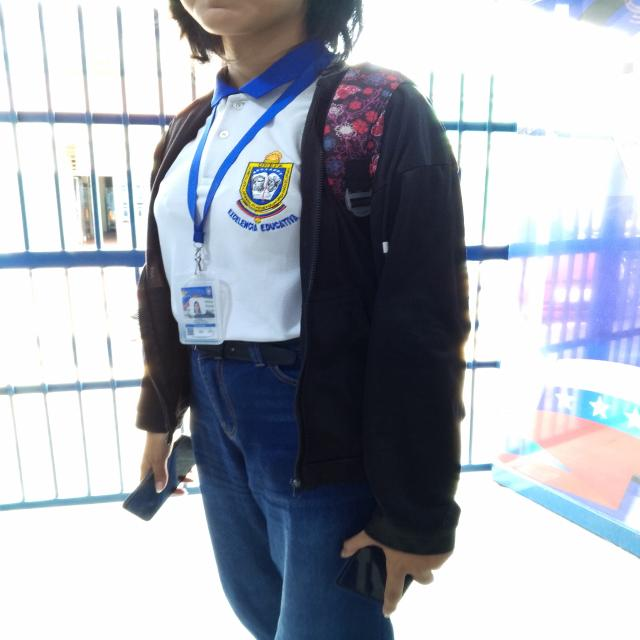carnet: (179, 283, 219, 343)
pantalon_oscuro: (186, 355, 396, 639)
uniforme_superior: (177, 346, 177, 400)
